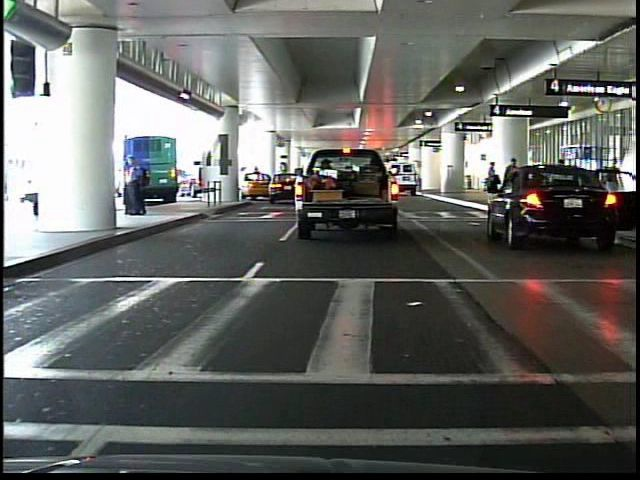person: (122, 151, 150, 218)
